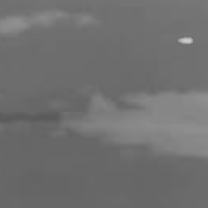Target: (177, 36, 194, 45)
